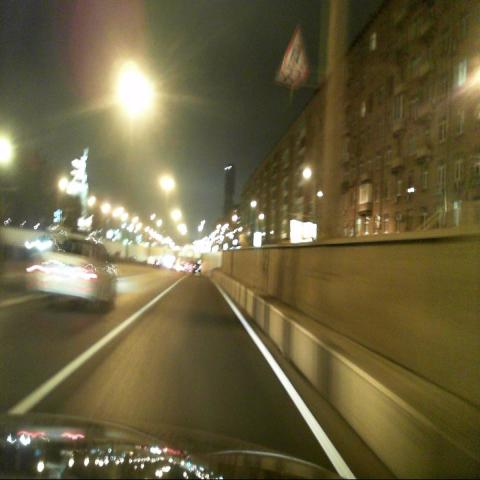1_15: (276, 29, 309, 86)
